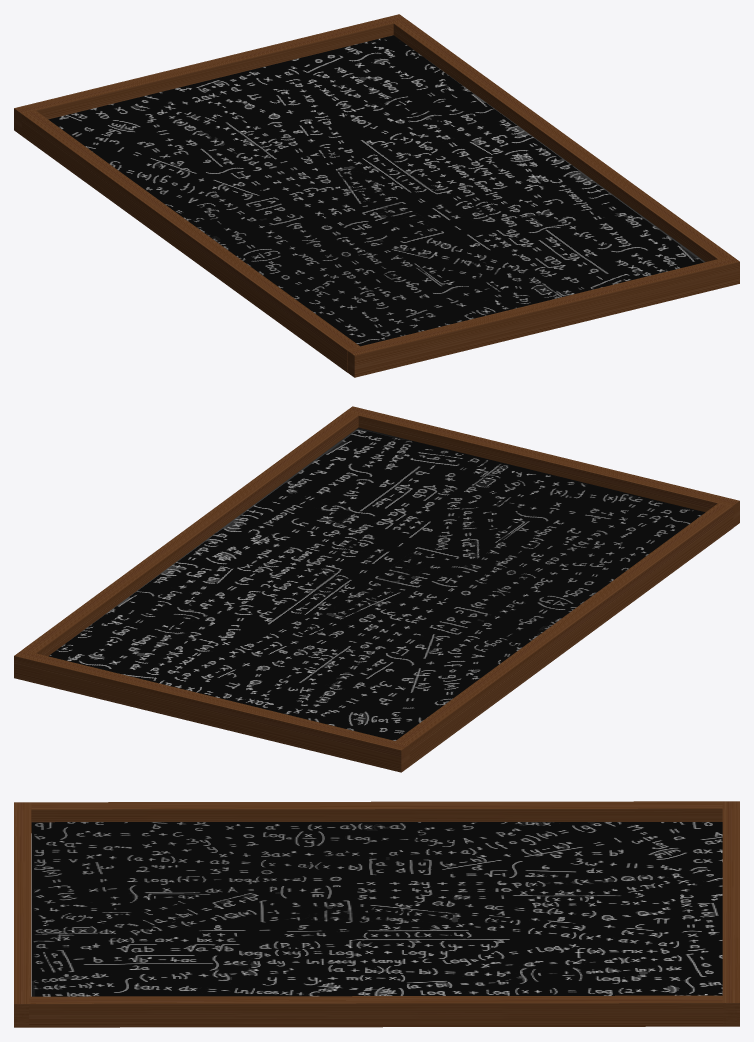
Rendered from tabule.fbx.
3 renders of one model, top to bottom at view 1: azimuth 30°, elevation 25°; view 2: azimuth 150°, elevation 25°; view 3: azimuth 270°, elevation 25°, orthographic. The views are drawn at different scales.
Visible parts, largest first — view 1: pCube21; view 2: pCube21; view 3: pCube21.
Part boxes in pixels (x1,y1,x2,y2): pCube21: (14, 14, 739, 377); pCube21: (14, 406, 739, 772); pCube21: (14, 801, 739, 1027).
Size of the model in its own units: 2.03 by 0.1125 by 3.07.
